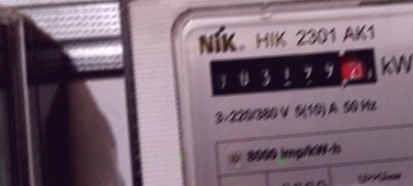0: (214, 69, 228, 91), (237, 66, 251, 87)
1: (280, 61, 293, 81)
3: (259, 66, 272, 87)
6: (348, 65, 360, 82)
9: (301, 59, 315, 80), (322, 59, 336, 79)
screen: (201, 36, 388, 111)
